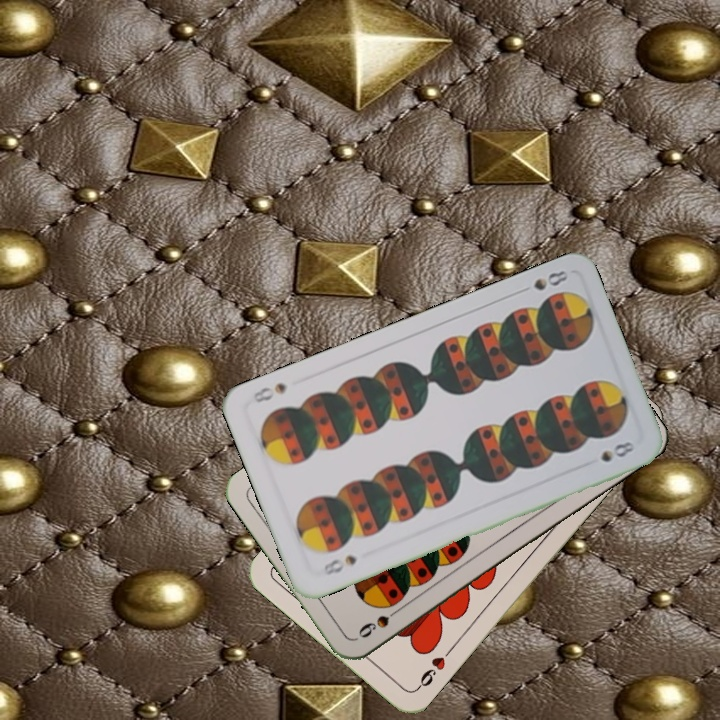H9: (412, 644, 456, 693)
S8: (514, 266, 571, 296), (318, 551, 360, 578)
S9: (353, 602, 405, 641)
